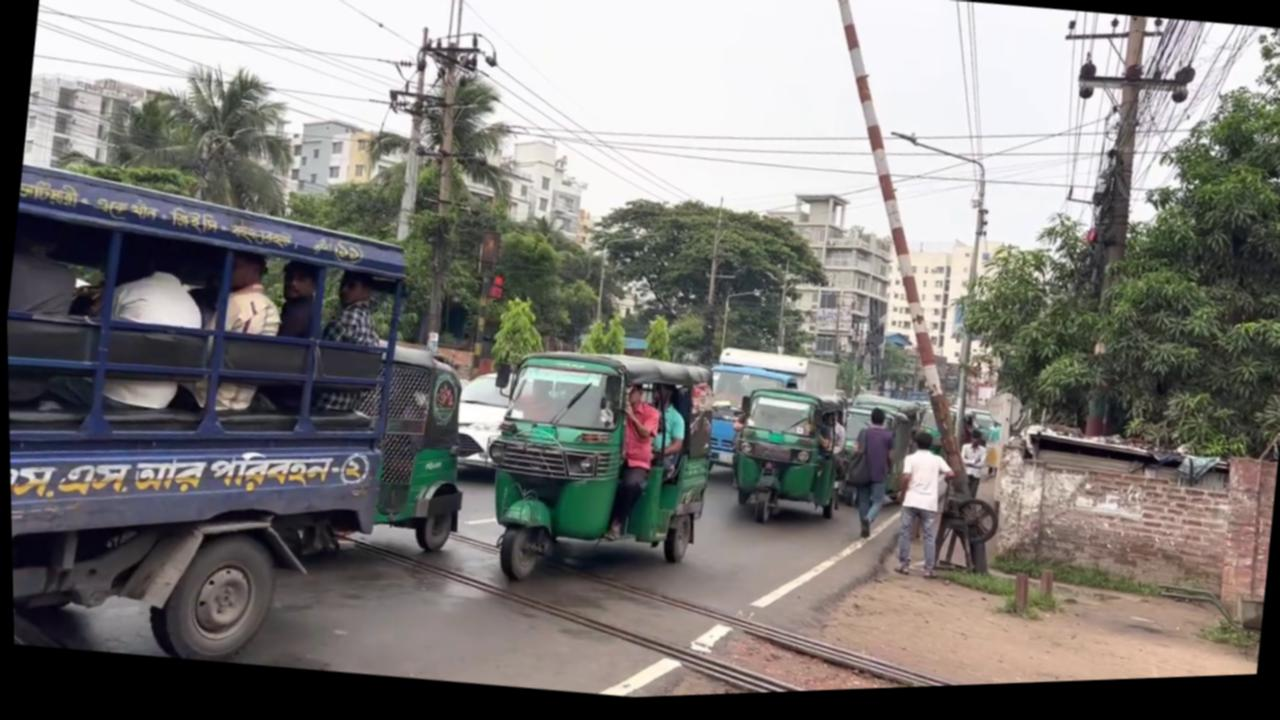Fence: (883, 434, 960, 589), (597, 386, 665, 550), (838, 410, 899, 548)
Garbage: (774, 0, 1025, 507), (1070, 23, 1157, 448)
Motorcycle: (315, 498, 1155, 711)
Pole: (485, 276, 505, 305)
Railroad-crossing: (570, 184, 839, 388), (485, 295, 547, 378)
Rickshaw: (3, 148, 499, 695), (466, 339, 723, 607), (695, 347, 841, 493)
Sidewalk: (973, 412, 1280, 654)
